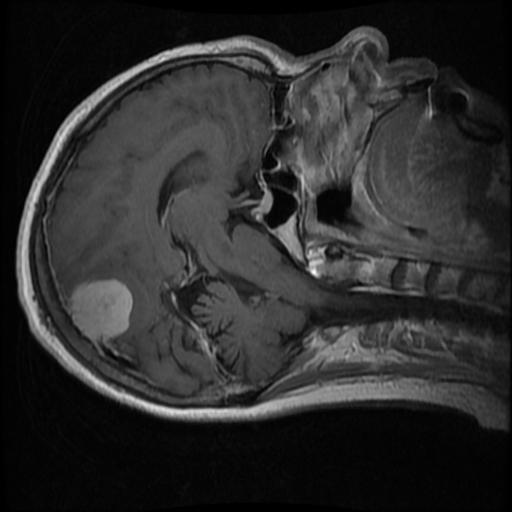meningioma: (70, 279, 133, 342)
